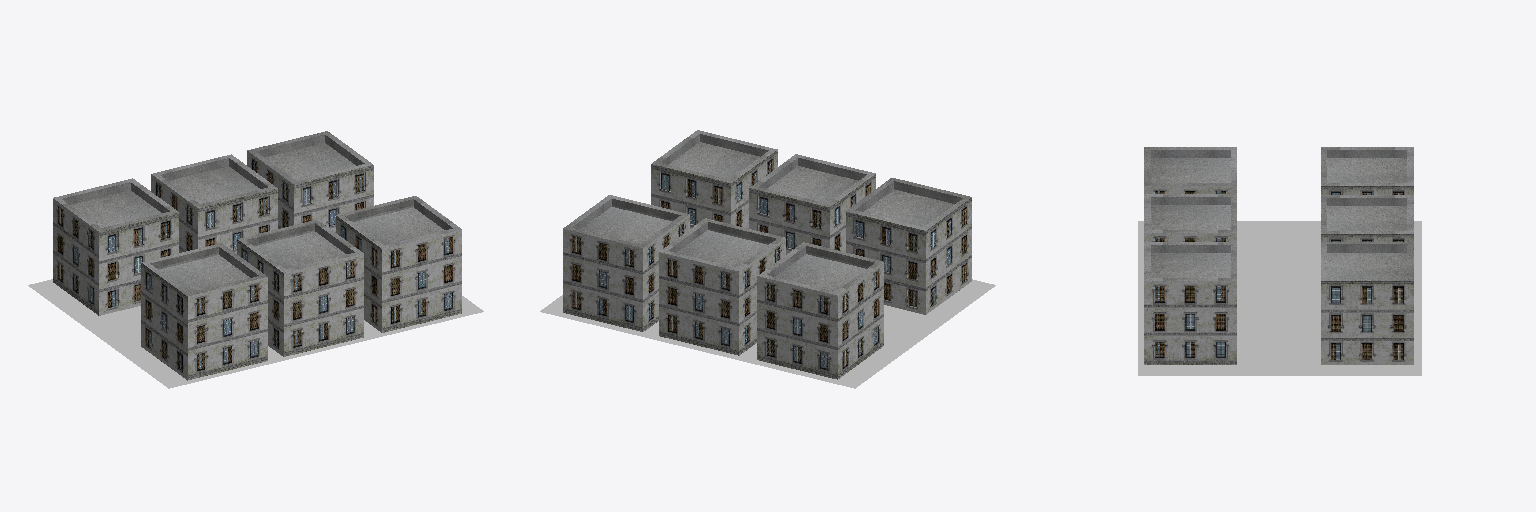
3 views of the same model, side by side, from view 1: azimuth 30°, elevation 25°; view 2: azimuth 150°, elevation 25°; view 3: azimuth 270°, elevation 25° (orthographic).
Visible parts, largest first — view 1: Buil.000_Cube.006, Buil.004_Cube.009, Buil.003_Cube.008, Buil.001_Cube.007, Buil.005_Cube.010, Buil.006_Cube.011, Plane; view 2: Buil.004_Cube.009, Buil.000_Cube.006, Buil.005_Cube.010, Buil.006_Cube.011, Buil.003_Cube.008, Buil.001_Cube.007, Plane; view 3: Plane, Buil.006_Cube.011, Buil.003_Cube.008, Buil.004_Cube.009, Buil.001_Cube.007, Buil.005_Cube.010, Buil.000_Cube.006.
Boxes of the visible parts, x1,y1,x2,y2 form: Buil.000_Cube.006: [141, 243, 267, 380]; Buil.004_Cube.009: [53, 178, 178, 315]; Buil.003_Cube.008: [336, 196, 461, 332]; Buil.001_Cube.007: [237, 220, 363, 356]; Buil.005_Cube.010: [151, 154, 277, 253]; Buil.006_Cube.011: [247, 131, 373, 232]; Plane: [28, 279, 483, 388]; Buil.004_Cube.009: [757, 242, 883, 379]; Buil.000_Cube.006: [846, 178, 971, 314]; Buil.005_Cube.010: [659, 218, 785, 355]; Buil.006_Cube.011: [563, 195, 689, 331]; Buil.003_Cube.008: [651, 130, 777, 228]; Buil.001_Cube.007: [749, 154, 875, 254]; Plane: [540, 279, 995, 388]; Plane: [1138, 221, 1421, 375]; Buil.006_Cube.011: [1321, 242, 1413, 364]; Buil.003_Cube.008: [1144, 242, 1236, 364]; Buil.004_Cube.009: [1321, 147, 1413, 194]; Buil.001_Cube.007: [1144, 194, 1236, 241]; Buil.005_Cube.010: [1321, 195, 1413, 241]; Buil.000_Cube.006: [1144, 147, 1236, 193].
Bounding box in the file's own units: 19.27 × 4.96 × 14.96.
Materials: 4 (2 with a texture image).